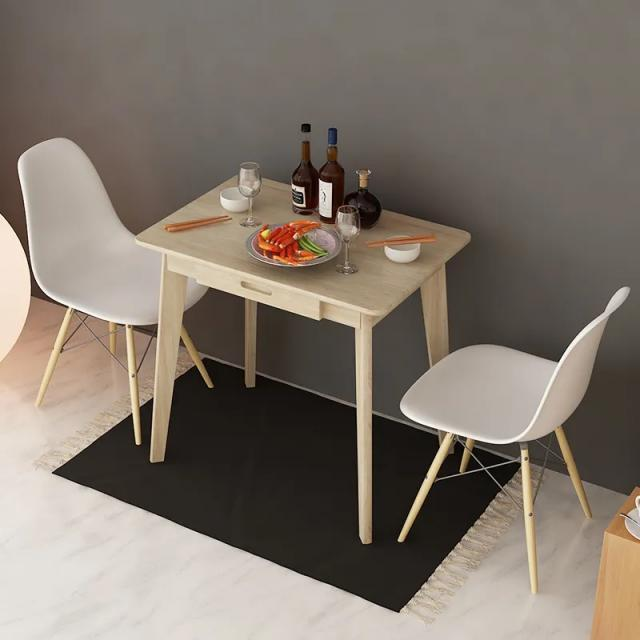table: (130, 148, 480, 349)
